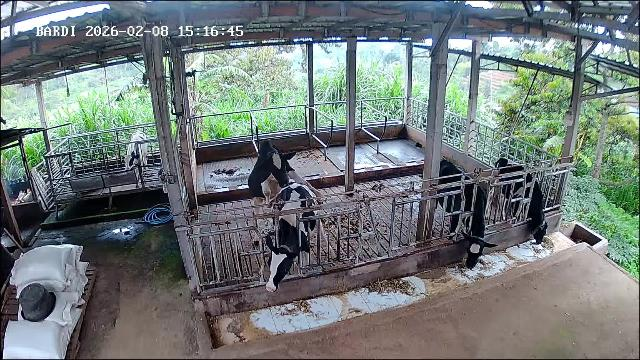mounting: (243, 138, 322, 223)
